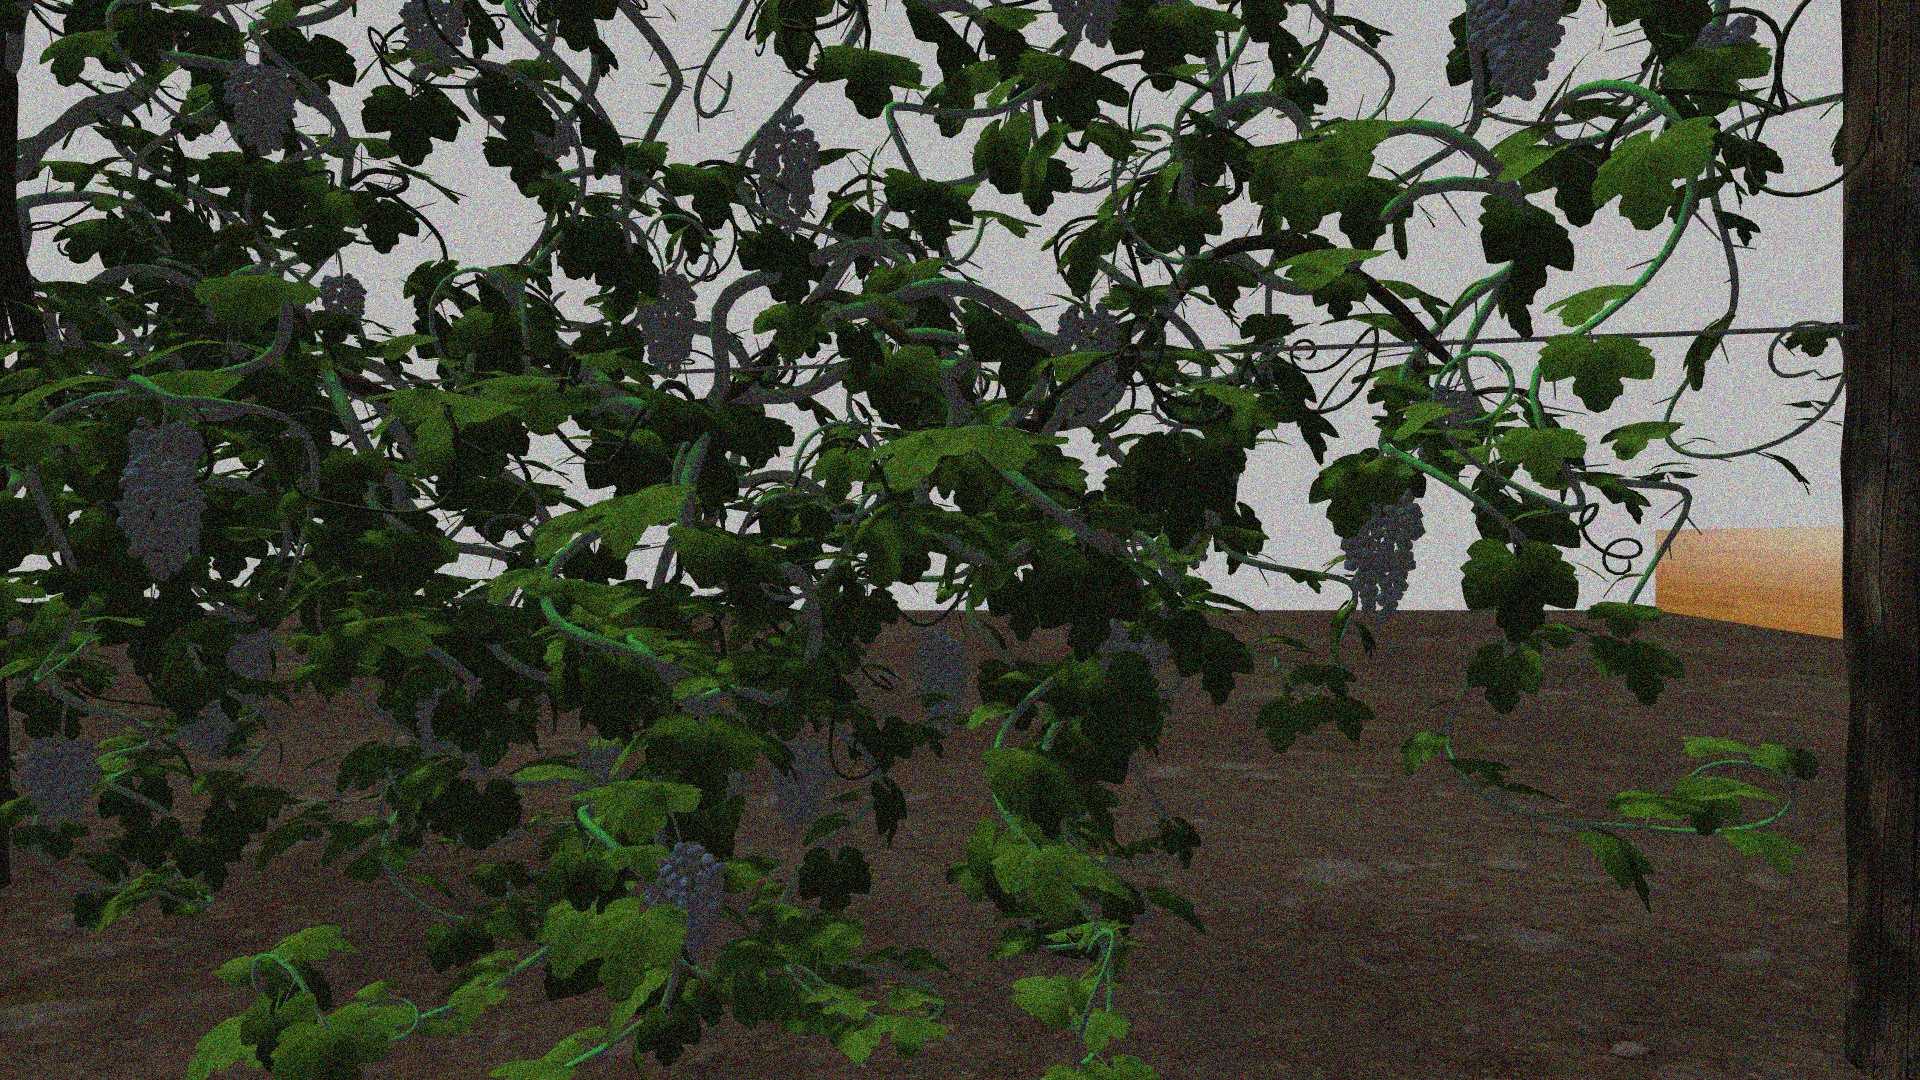grape: (1340, 491, 1425, 621), (1466, 7, 1568, 104), (123, 464, 200, 584), (752, 109, 823, 237), (654, 840, 725, 967), (18, 733, 102, 836), (766, 725, 835, 837), (223, 61, 299, 158), (1054, 303, 1121, 414), (638, 270, 698, 380), (911, 632, 971, 724), (400, 5, 465, 76), (128, 417, 206, 472), (225, 625, 278, 704), (186, 707, 233, 760), (320, 272, 367, 324)
